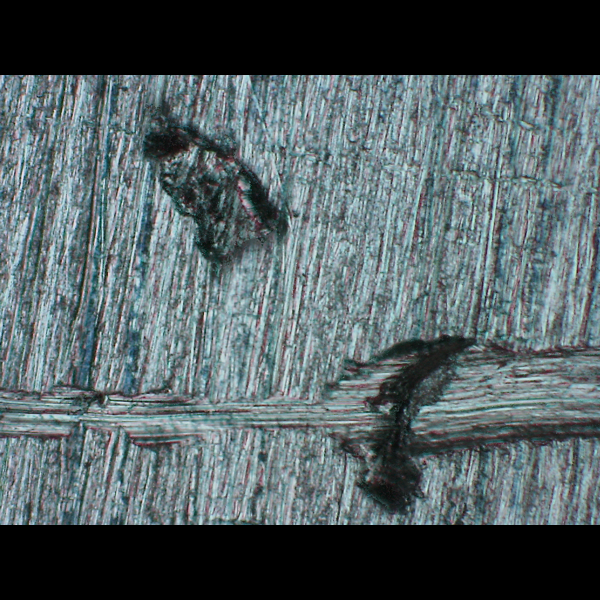d: (0, 324, 597, 517), (132, 106, 294, 270)
